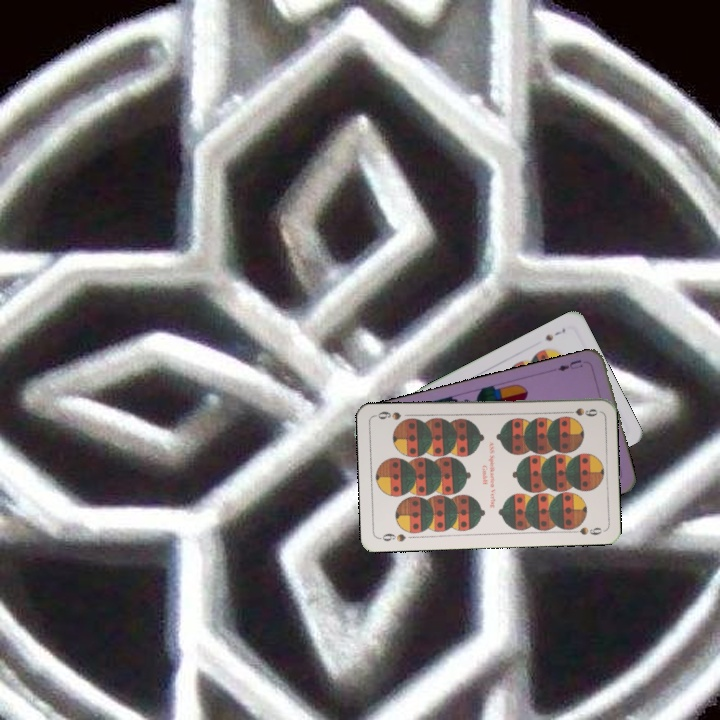EU: (550, 356, 585, 374)
S7: (541, 324, 568, 344)
S9: (560, 404, 600, 419), (375, 530, 408, 544)
